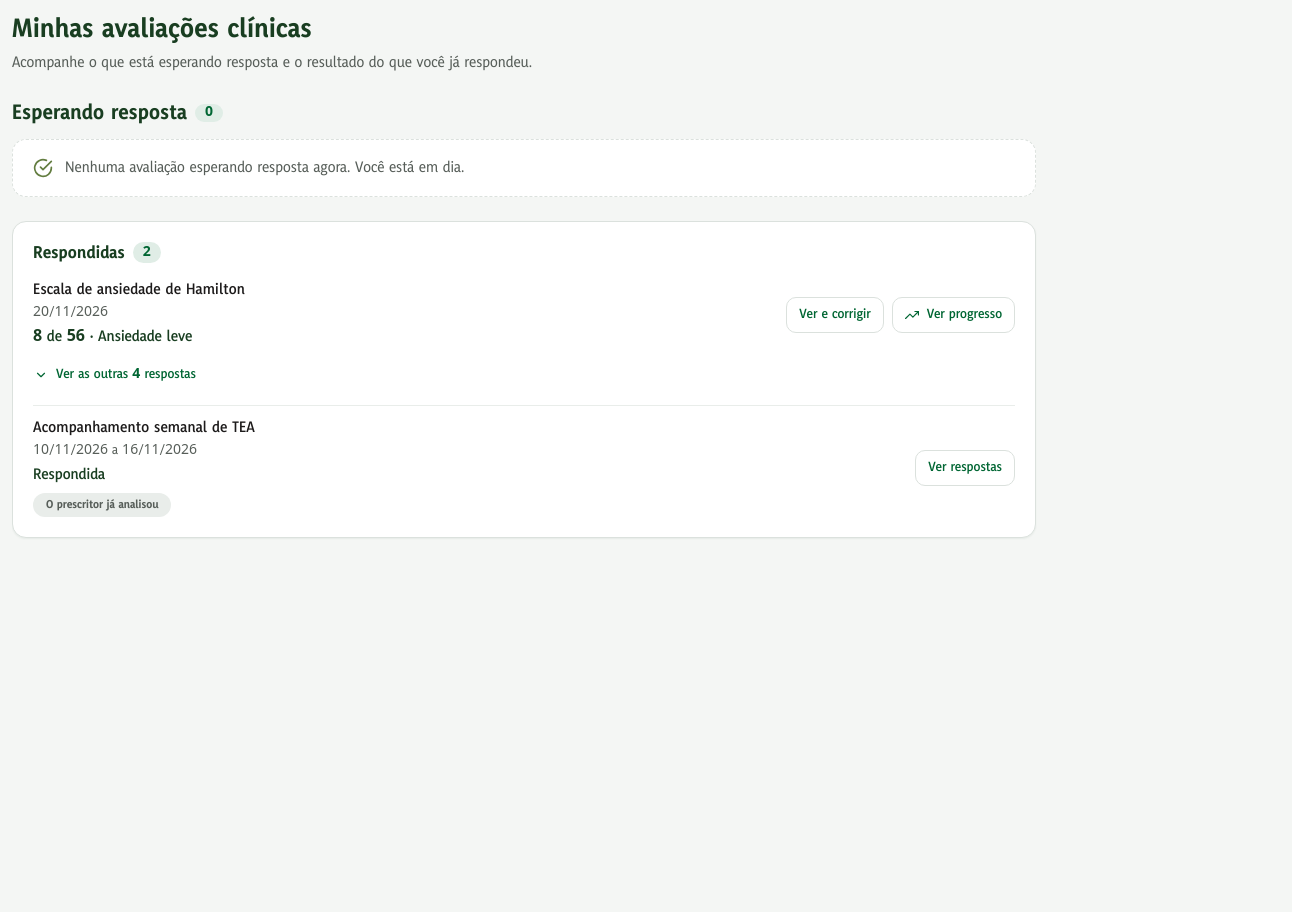
Scenario: respondidas juntas por escala › a resposta anulada mais recente n vira o resultado da escala
Expected: the text "8 de 56 · Ansiedade leve" is shown, [33,325,192,349]
Expected: the text "Anulada pelo prescritor" is not shown
Click the button "Ver as outras 4 respostas": (115, 375) [21,357,209,393]
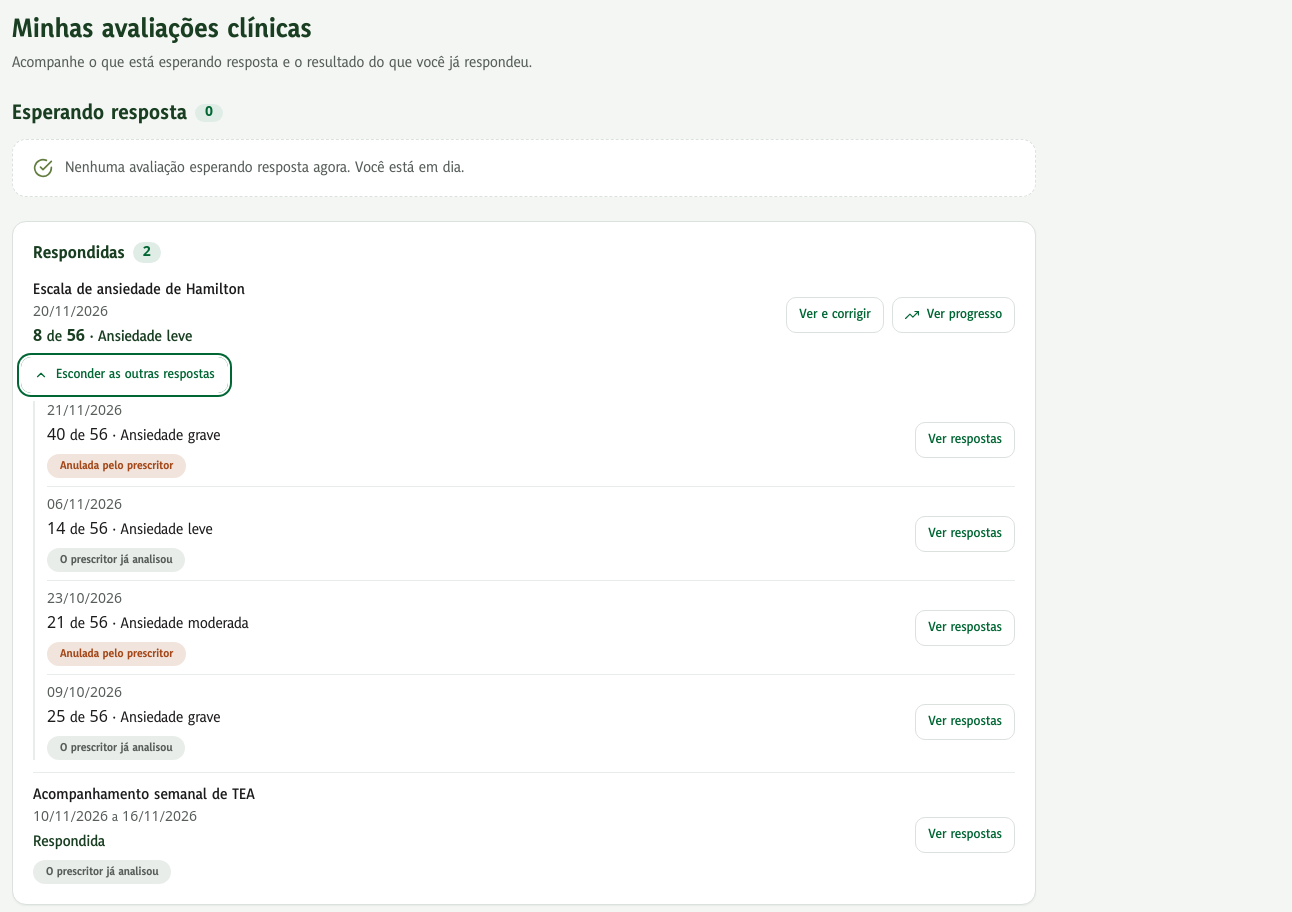
Expected: the text "Anulada pelo prescritor" below "40 de 56 · Ansiedade grave" is shown, [60,458,173,474]
